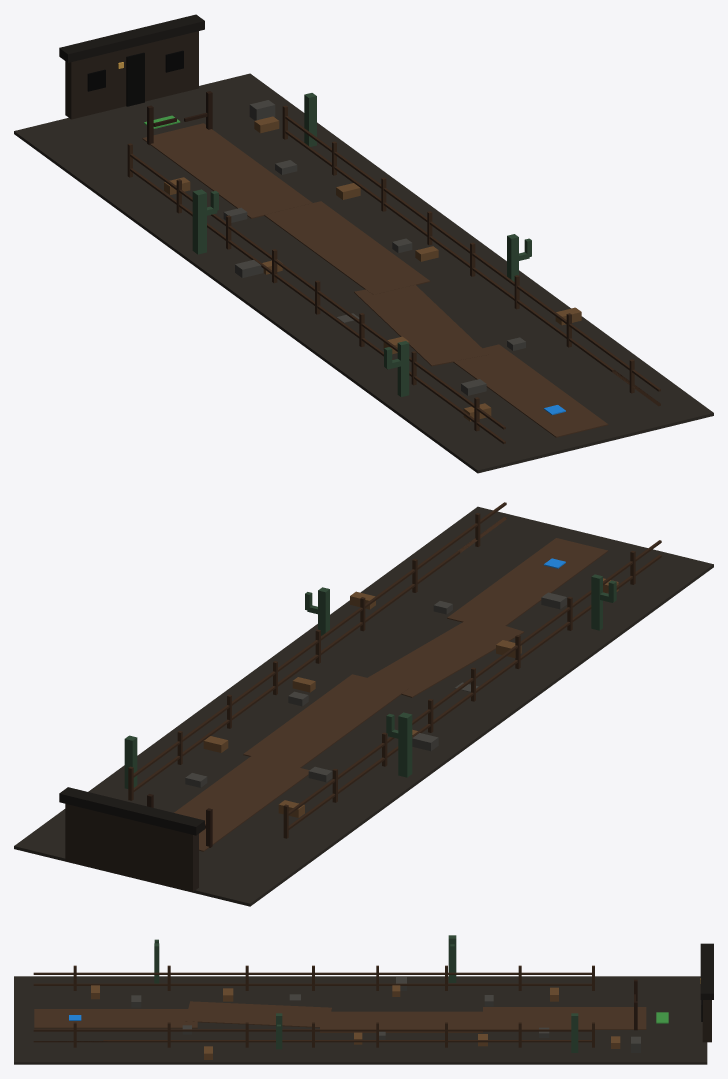
Rendered from trail_intro_blockout.glb.
The picture shows the model from 3 angles, top to bottom: view 1: azimuth 30°, elevation 25°; view 2: azimuth 150°, elevation 25°; view 3: azimuth 270°, elevation 25°; orthographic projection. The views are drawn at different scales.
Visible parts, largest first — view 1: terrain_base, dirt_path_04, dirt_path_03, house_placeholder_body, dirt_path_01, dirt_path_02, house_placeholder_roof, house_placeholder_door, cactus_03_main; view 2: terrain_base, house_placeholder_body, dirt_path_03, dirt_path_01, dirt_path_04, dirt_path_02, house_placeholder_roof, cactus_03_main, cactus_01_main; view 3: terrain_base, dirt_path_04, dirt_path_03, dirt_path_01, dirt_path_02, house_placeholder_roof, house_placeholder_body, cactus_03_main, cactus_04_main, cactus_01_main.
Boxes of the visible parts, bbox=[...] form: terrain_base: bbox=[14, 73, 713, 473]; dirt_path_04: bbox=[142, 123, 312, 218]; dirt_path_03: bbox=[264, 201, 430, 294]; house_placeholder_body: bbox=[65, 31, 198, 119]; dirt_path_01: bbox=[453, 344, 608, 437]; dirt_path_02: bbox=[354, 284, 488, 366]; house_placeholder_roof: bbox=[59, 14, 204, 62]; house_placeholder_door: bbox=[126, 52, 144, 106]; cactus_03_main: bbox=[192, 189, 206, 254]; terrain_base: bbox=[14, 506, 713, 906]; house_placeholder_body: bbox=[65, 804, 198, 891]; dirt_path_03: bbox=[243, 674, 408, 767]; dirt_path_01: bbox=[447, 538, 608, 625]; dirt_path_04: bbox=[174, 756, 309, 851]; dirt_path_02: bbox=[367, 616, 524, 697]; house_placeholder_roof: bbox=[59, 787, 204, 835]; cactus_03_main: bbox=[398, 712, 412, 777]; cactus_01_main: bbox=[591, 574, 602, 630]; terrain_base: bbox=[14, 976, 707, 1064]; dirt_path_04: bbox=[483, 1007, 646, 1029]; dirt_path_03: bbox=[320, 1011, 482, 1032]; dirt_path_01: bbox=[34, 1009, 197, 1028]; dirt_path_02: bbox=[185, 1001, 331, 1027]; house_placeholder_roof: bbox=[700, 943, 713, 999]; house_placeholder_body: bbox=[702, 1000, 711, 1042]; cactus_03_main: bbox=[448, 935, 456, 982]; cactus_04_main: bbox=[571, 1013, 578, 1052]; cactus_01_main: bbox=[154, 943, 159, 983].
Size of the model in its own units: 10 by 3.04 by 34.32.
